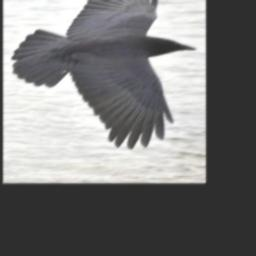Crow: (11, 0, 196, 149)
